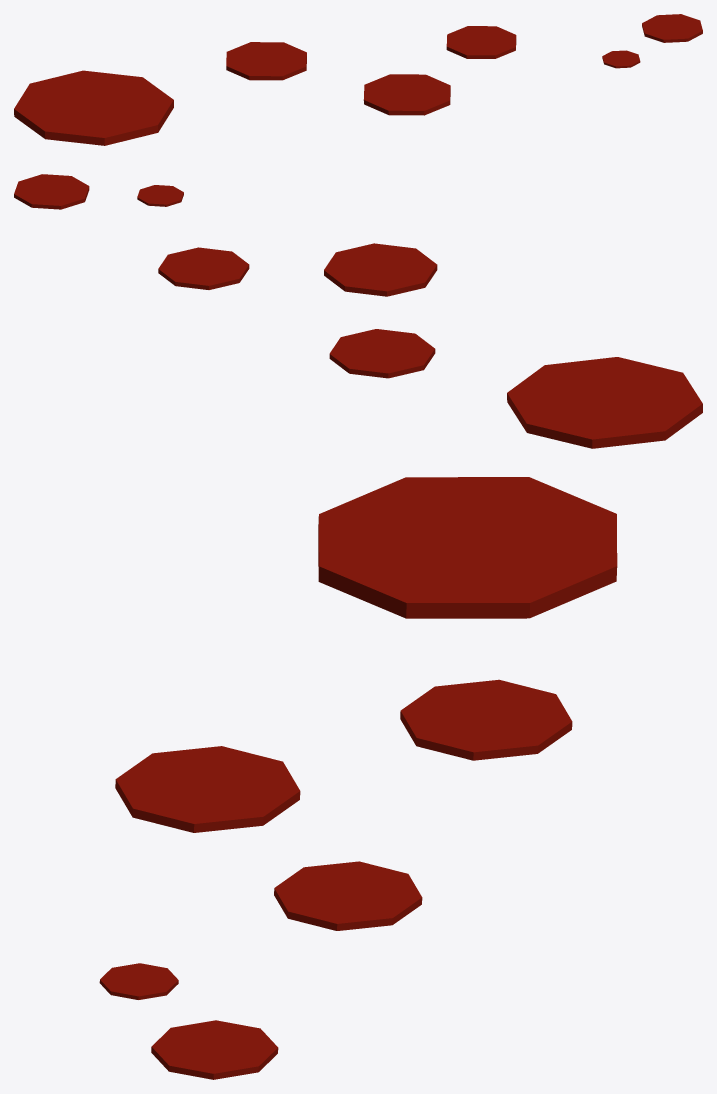
Rendered from bloodTrail.fbx.
3 views of the same model, one above another, from view 1: azimuth 30°, elevation 25°; view 2: azimuth 150°, elevation 25°; view 3: azimuth 270°, elevation 25° (orthographic). The views are drawn at different scales.
Parts seen in each view (by area): view 1: bloodTrail; view 2: bloodTrail; view 3: bloodTrail.
Part boxes in pixels (x1=…): bloodTrail: x1=14, y1=14, x2=702, y2=145; bloodTrail: x1=14, y1=174, x2=702, y2=448; bloodTrail: x1=99, y1=477, x2=617, y2=1079.
Size of the model in its own units: 552 by 6.7 by 204.
